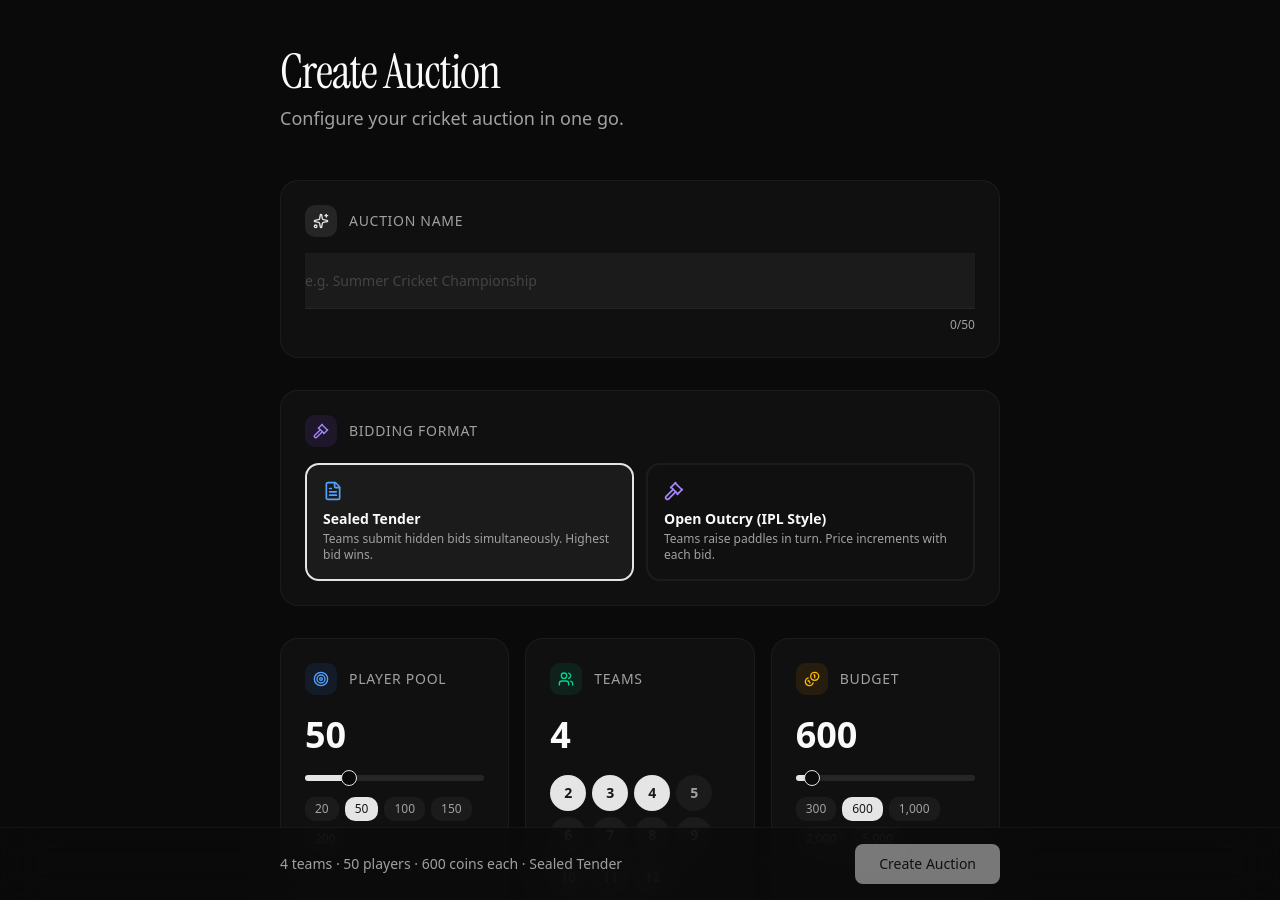
Test: CreateAuctionPage › Bidding Type Selection › should switch to Open Outcry when selected
Click the button "Open Outcry (IPL Style)". click: [810, 522]
box: [646,463,975,581]
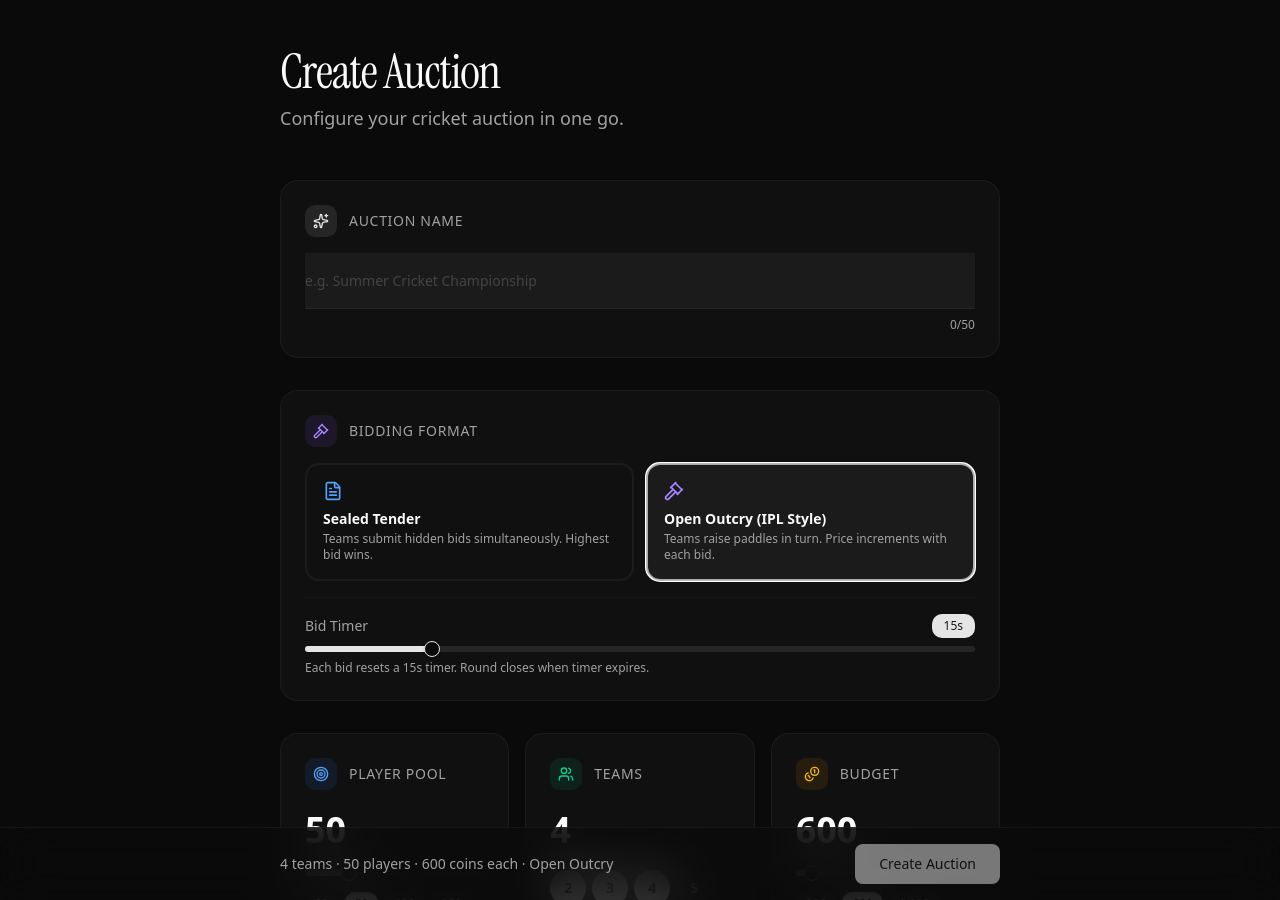
Now the text "Bid Timer" is shown, box [305,616,368,636]
